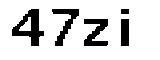4: (7, 6, 47, 50)
7: (49, 4, 78, 48)
i: (116, 3, 136, 50)
z: (81, 17, 113, 51)
